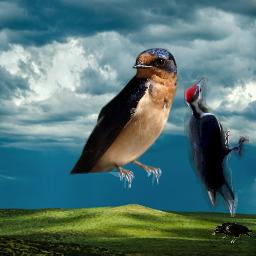Crow: (212, 222, 252, 243)
Swallow: (68, 47, 177, 188)
Woodpecker: (184, 77, 249, 217)
